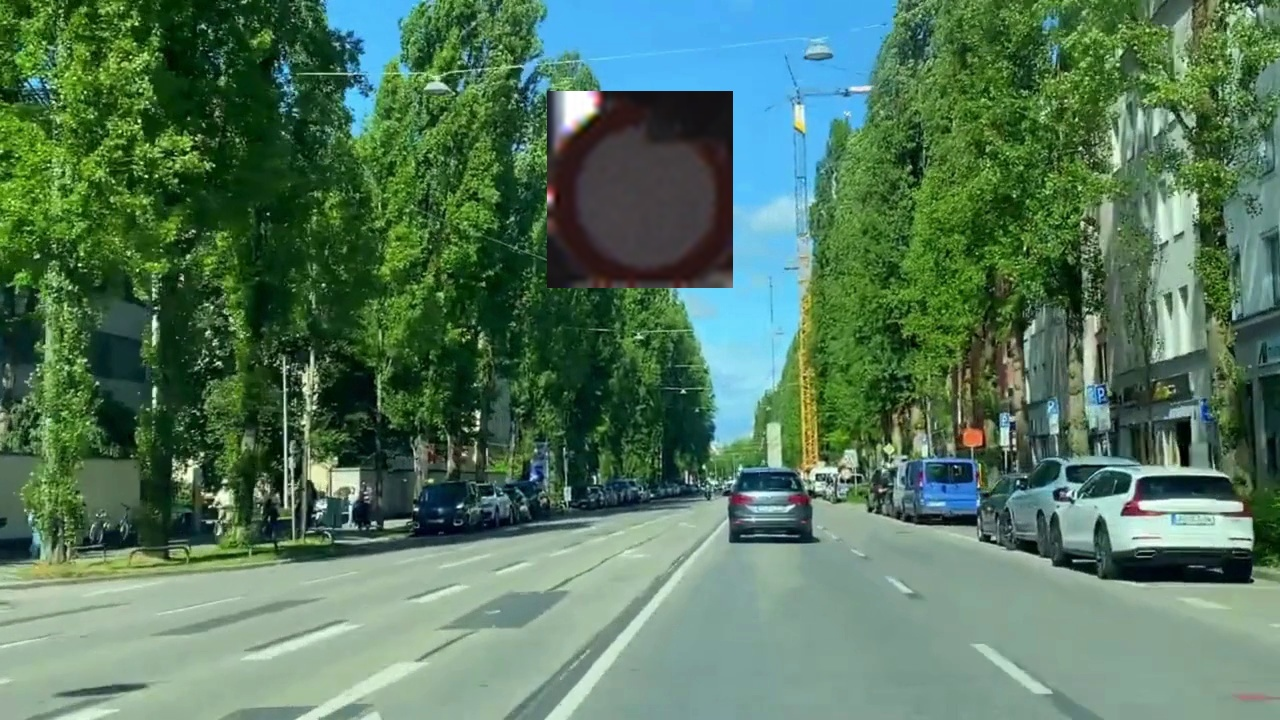No vehicles: (547, 91, 733, 288)
